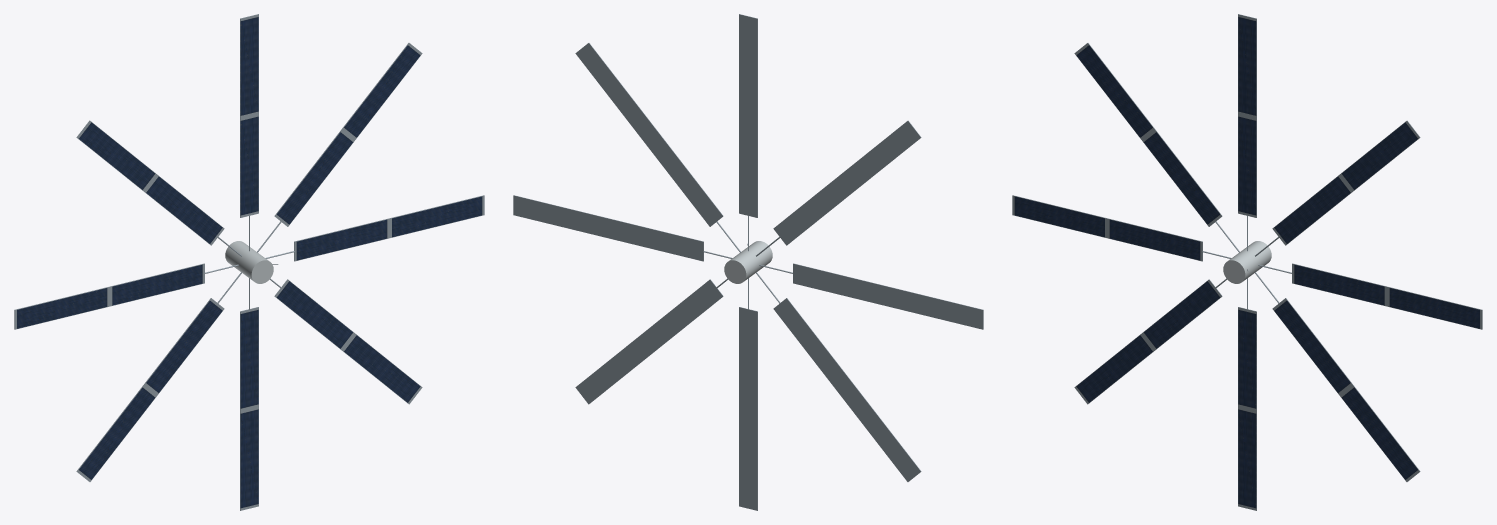
The model's file is ref-kol-tso-19720.glb.
The picture shows the model from 3 angles, left to right: view 1: azimuth 30°, elevation 25°; view 2: azimuth 150°, elevation 25°; view 3: azimuth 330°, elevation 25°; orthographic projection.
Visible parts, largest first — view 1: Photovoltaic laminates (×16), Spacecraft body; view 2: Array frame (×16), Spacecraft body; view 3: Photovoltaic laminates (×16), Spacecraft body.
Part boxes in pixels (x1,y1,x2,y2): Photovoltaic laminates (×16): [17, 17, 482, 508]; Spacecraft body: [225, 241, 273, 283]; Array frame (×16): [513, 14, 983, 510]; Spacecraft body: [724, 241, 772, 283]; Photovoltaic laminates (×16): [1014, 17, 1479, 508]; Spacecraft body: [1223, 241, 1271, 283].
Size of the model in its own units: 33.9 by 33.9 by 3.41.
Materials: 3 (1 with a texture image).
